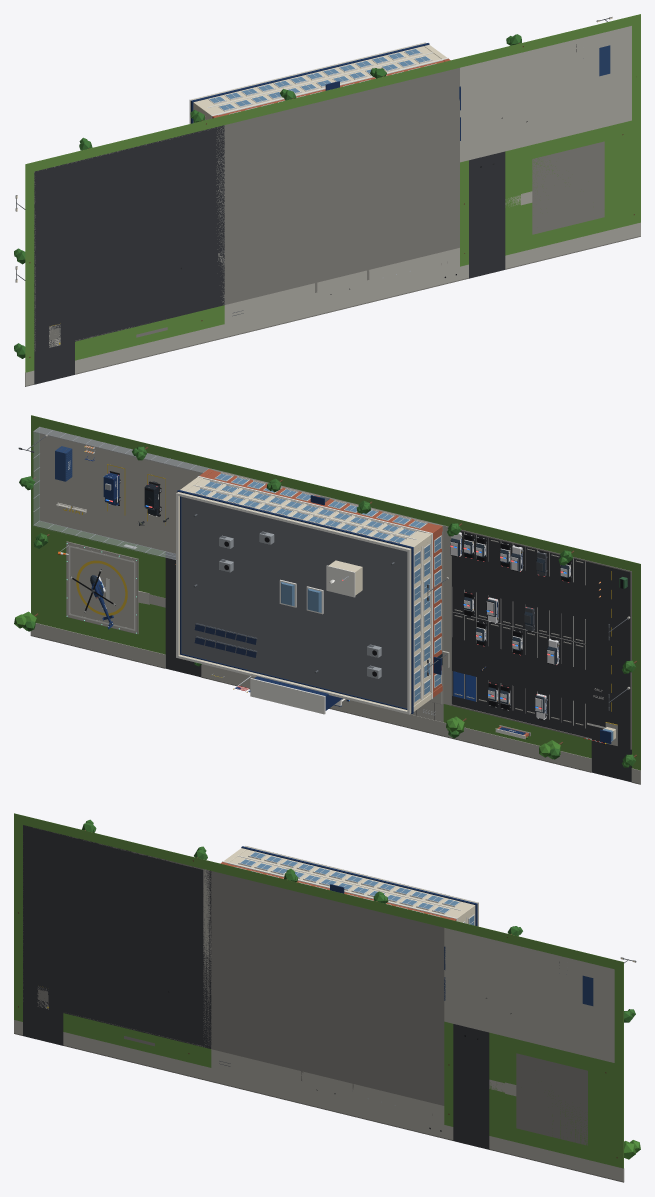
The model's file is PD_Site_Full.fbx.
The picture shows the model from 3 angles, top to bottom: view 1: azimuth 30°, elevation 25°; view 2: azimuth 150°, elevation 25°; view 3: azimuth 330°, elevation 25°; orthographic projection.
Visible parts, largest first — view 1: PD_PoliceStation_01_Mesh, PD_SiteGround_01_Mesh, PD_ParkingLot_01_Mesh, PD_SwatYard_01_Mesh, PD_Helipad_01_Mesh; view 2: PD_PoliceStation_01_Mesh, PD_ParkingLot_01_Mesh, PD_SiteGround_01_Mesh, PD_SwatYard_01_Mesh, PD_Helipad_01_Mesh, PD_SWAT_Container_01_Mesh, PD_SWAT_Van_01_Body; view 3: PD_PoliceStation_01_Mesh, PD_SiteGround_01_Mesh, PD_ParkingLot_01_Mesh, PD_SwatYard_01_Mesh, PD_Helipad_01_Mesh.
Part boxes in pixels (<box>): PD_PoliceStation_01_Mesh: <box>189,42,460,304</box>; PD_SiteGround_01_Mesh: <box>25,14,640,386</box>; PD_ParkingLot_01_Mesh: <box>34,125,224,351</box>; PD_SwatYard_01_Mesh: <box>460,26,631,162</box>; PD_Helipad_01_Mesh: <box>521,141,604,234</box>; PD_PoliceStation_01_Mesh: <box>176,468,449,714</box>; PD_ParkingLot_01_Mesh: <box>443,525,631,749</box>; PD_SiteGround_01_Mesh: <box>30,415,640,784</box>; PD_SwatYard_01_Mesh: <box>33,427,209,555</box>; PD_Helipad_01_Mesh: <box>58,541,149,634</box>; PD_SWAT_Container_01_Mesh: <box>55,446,72,481</box>; PD_SWAT_Van_01_Body: <box>103,471,119,505</box>; PD_PoliceStation_01_Mesh: <box>211,845,478,1105</box>; PD_SiteGround_01_Mesh: <box>14,813,624,1182</box>; PD_ParkingLot_01_Mesh: <box>23,825,211,1048</box>; PD_SwatYard_01_Mesh: <box>444,928,614,1062</box>; PD_Helipad_01_Mesh: <box>505,1053,587,1145</box>.
Size of the model in its own units: 137 by 47.67 by 18.01.
